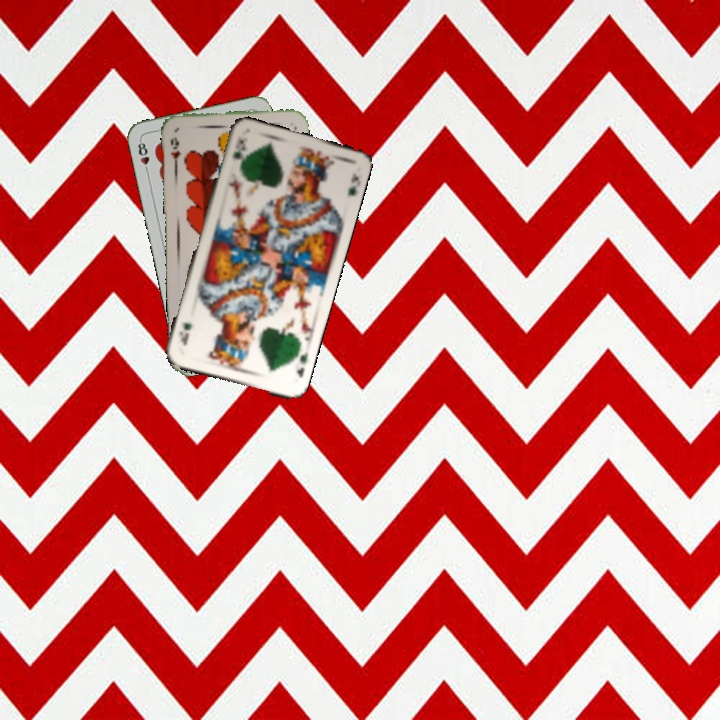GK: (292, 347, 311, 379), (229, 135, 246, 162)
H8: (134, 136, 152, 176)
H9: (167, 133, 184, 168)
